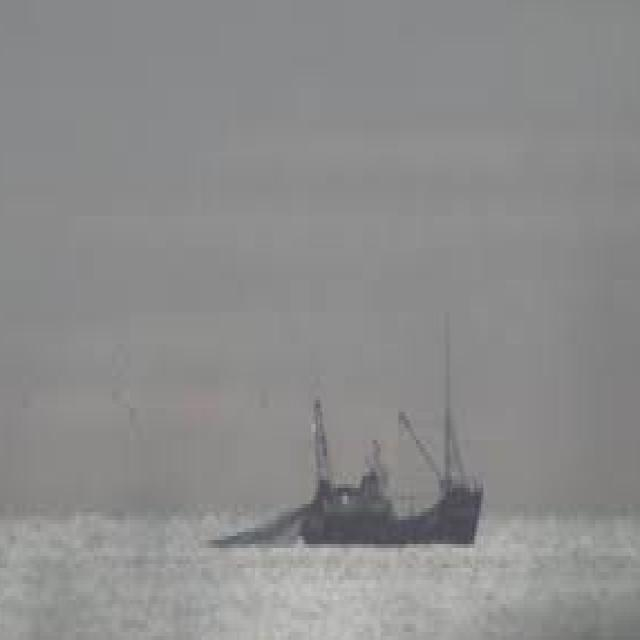fishing boat: (279, 309, 485, 559)
